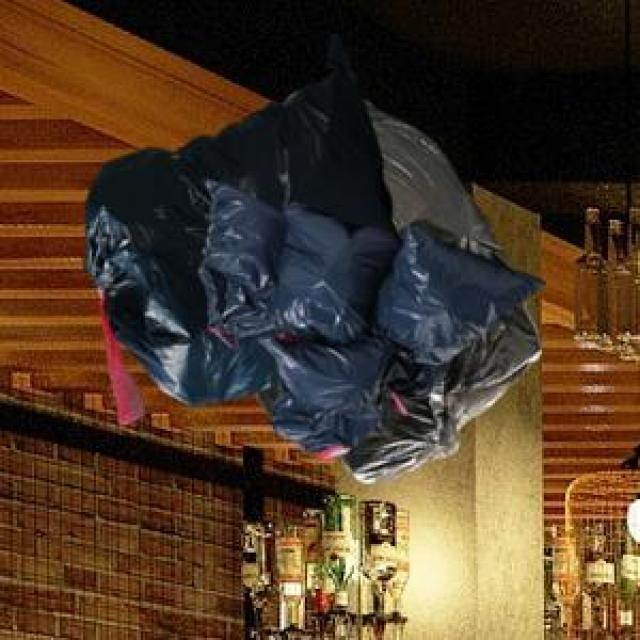miscellaneous trash: (81, 30, 395, 420), (250, 96, 536, 478), (196, 177, 542, 454)
